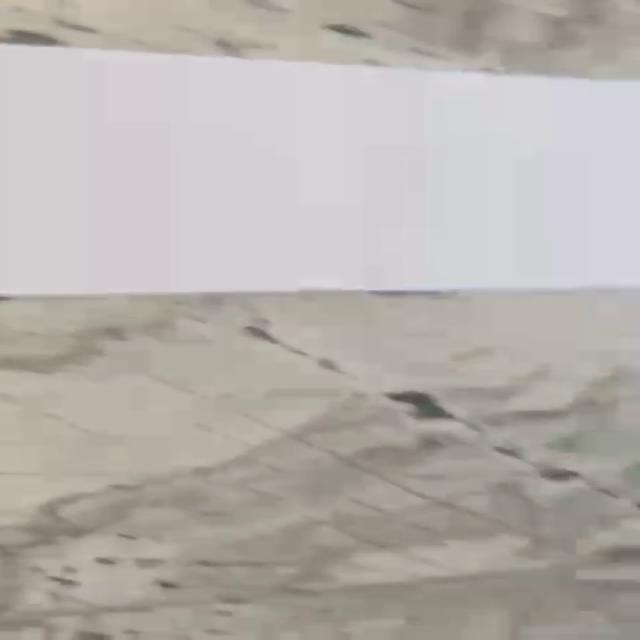road: (0, 43, 640, 295)
